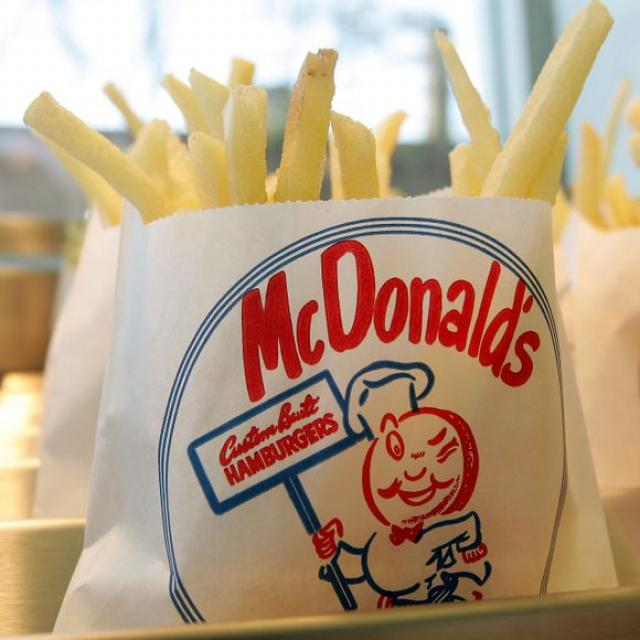Fries: (19, 4, 640, 640)
